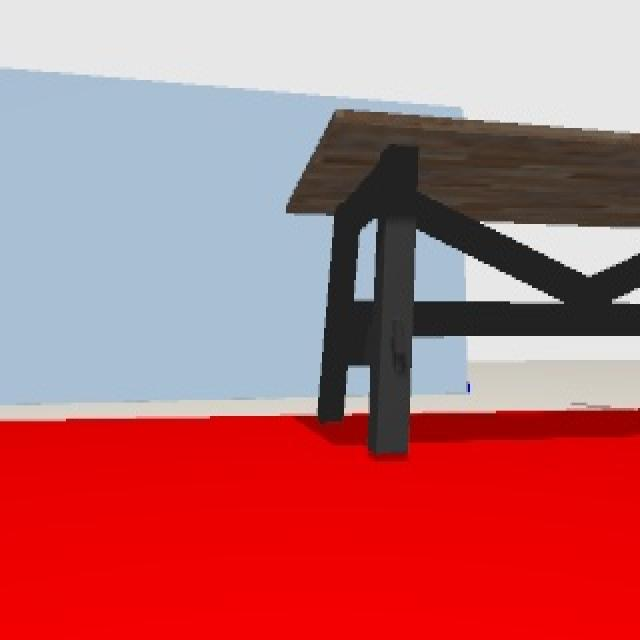dining: (286, 105, 640, 460)
